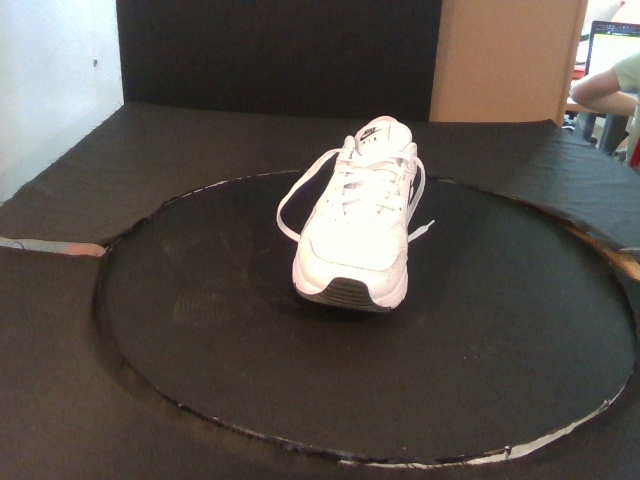shoe: (290, 115, 419, 314)
